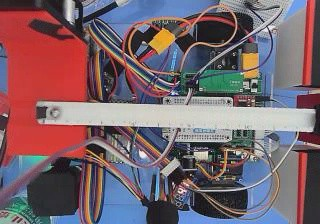ironball: (48, 107, 61, 117)
